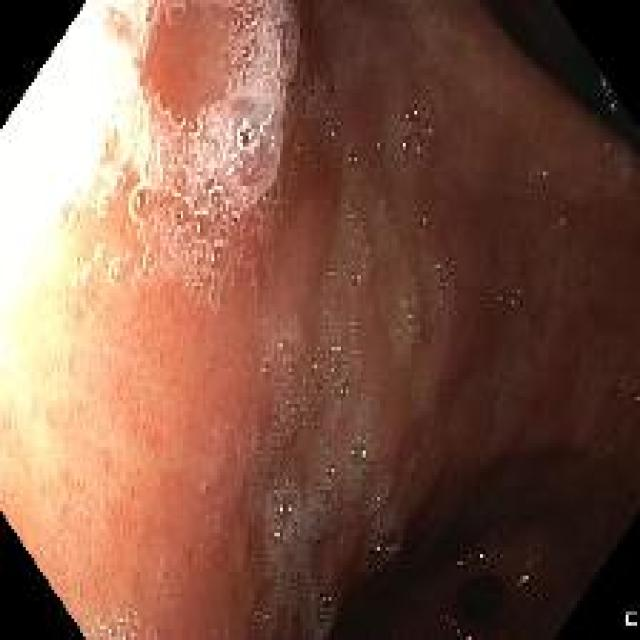bubbles: (158, 99, 277, 251), (231, 7, 295, 82), (280, 69, 328, 161), (208, 189, 242, 236), (93, 614, 158, 637), (431, 250, 454, 308), (133, 180, 158, 223), (371, 527, 401, 561), (89, 191, 121, 221), (304, 585, 332, 614), (399, 295, 421, 330), (175, 197, 195, 233), (316, 99, 338, 130), (166, 3, 195, 26), (322, 333, 340, 369), (411, 203, 433, 232), (60, 204, 81, 232), (184, 108, 202, 140), (350, 439, 369, 468), (399, 102, 425, 123), (238, 122, 256, 151), (278, 490, 296, 519), (258, 604, 277, 629), (334, 379, 352, 405), (106, 166, 123, 193), (328, 119, 343, 149), (306, 353, 321, 382), (207, 246, 225, 270), (155, 91, 172, 116), (167, 104, 186, 126), (113, 258, 127, 286), (348, 267, 363, 292), (171, 166, 182, 197), (274, 335, 290, 356), (272, 522, 285, 545), (195, 213, 206, 239), (414, 140, 427, 158), (398, 136, 409, 156), (325, 267, 339, 281), (286, 360, 295, 378), (348, 149, 355, 169), (346, 210, 356, 221), (263, 357, 268, 376)
contrast: (315, 474, 621, 628), (492, 9, 628, 144)
saturation: (1, 2, 151, 400)
specularity: (135, 192, 143, 210), (360, 446, 367, 461), (279, 500, 286, 515), (144, 193, 150, 210), (519, 574, 531, 582), (401, 138, 408, 151), (376, 541, 383, 554), (288, 500, 295, 512), (413, 107, 419, 120), (351, 447, 357, 459), (272, 531, 281, 539), (111, 264, 117, 275), (196, 220, 201, 233), (178, 208, 183, 221), (478, 552, 486, 560), (210, 252, 215, 264), (459, 557, 465, 567), (416, 145, 422, 154), (246, 128, 251, 138), (403, 111, 408, 121), (385, 543, 391, 551), (232, 63, 237, 70)
